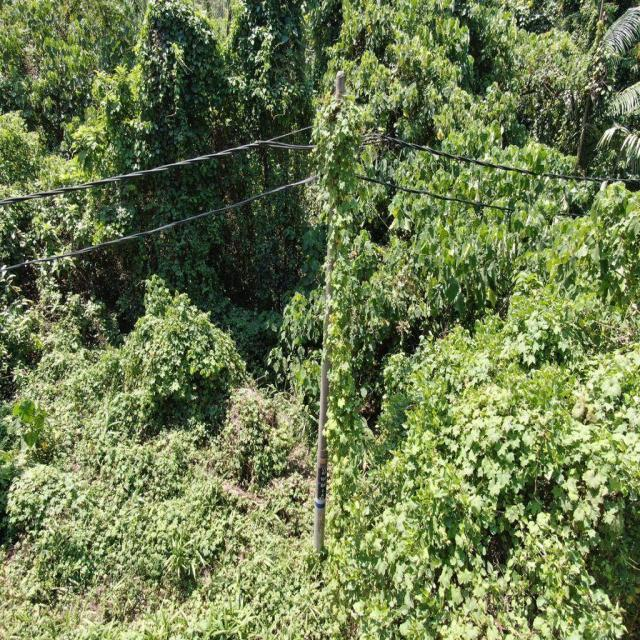critical vegetation: (301, 83, 371, 479)
